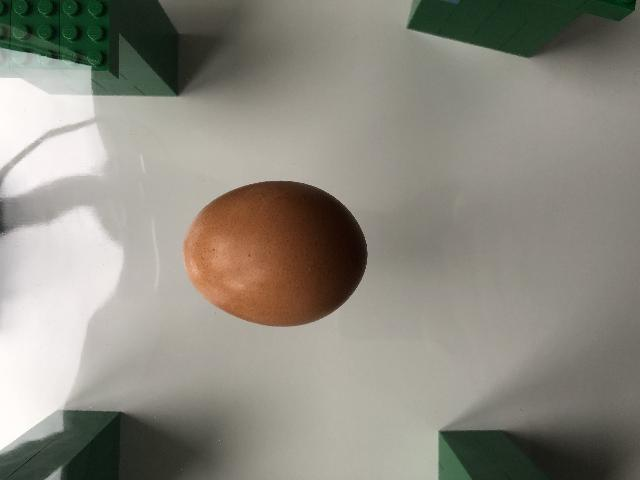Sano: (181, 178, 368, 328)
